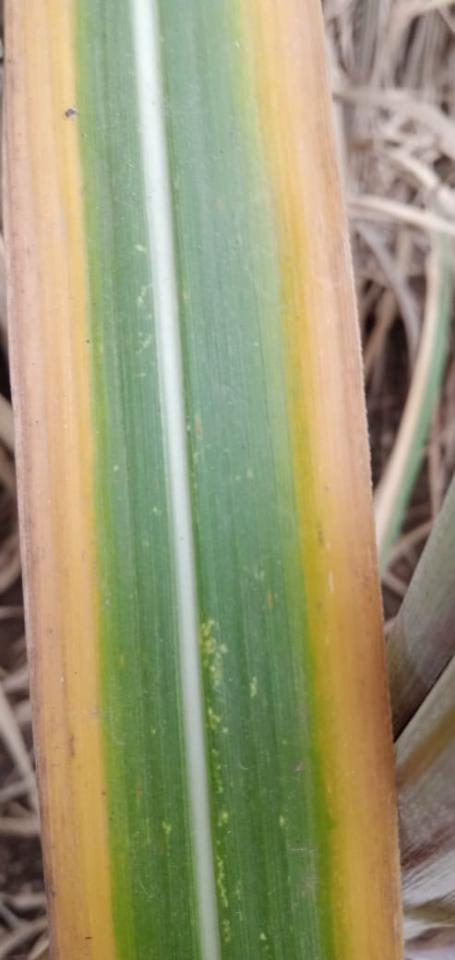Rust: (65, 108, 79, 120)
Yellow: (256, 0, 381, 959), (27, 0, 119, 959)
